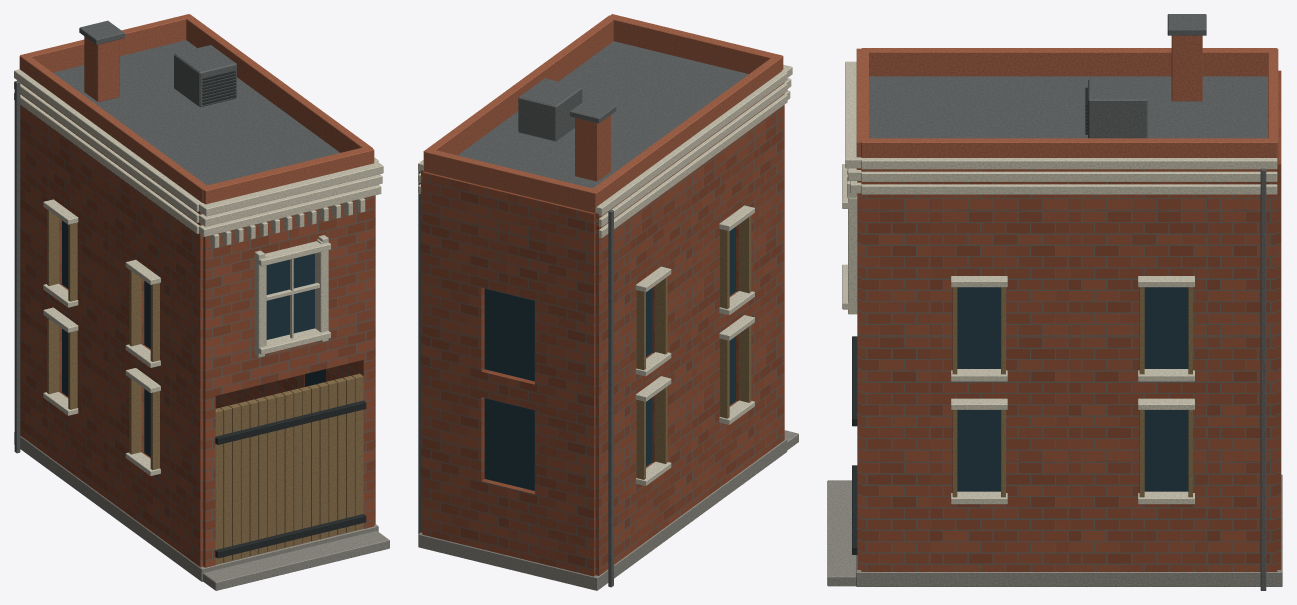
File: VICT15_lod1.glb
3 renders of one model, left to right at view 1: azimuth 30°, elevation 25°; view 2: azimuth 150°, elevation 25°; view 3: azimuth 270°, elevation 25°, orthographic. The views are drawn at different scales.
Visible parts, largest first — view 1: VICT15_LOD1; view 2: VICT15_LOD1; view 3: VICT15_LOD1.
Part boxes in pixels (x1,y1,x2,y2): VICT15_LOD1: [14, 14, 389, 590]; VICT15_LOD1: [418, 14, 798, 590]; VICT15_LOD1: [827, 14, 1282, 590].
Size of the model in its own units: 3.71 by 7.85 by 6.57.
Materials: 9 (7 with a texture image).
